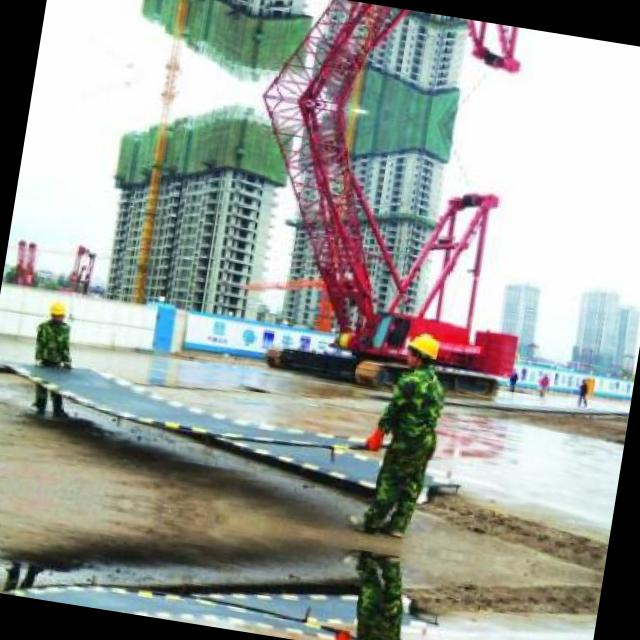helmet: (402, 324, 444, 374), (42, 293, 69, 322)
